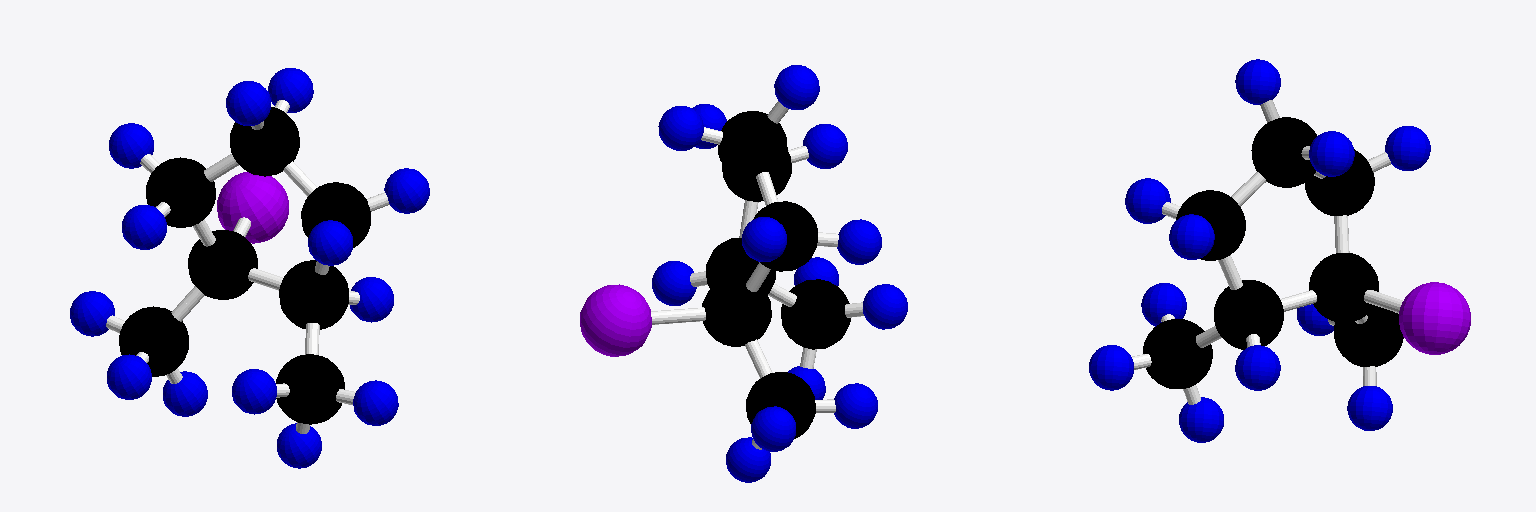
The model's file is cis-1-cloro-1_2-dimetil-ciclo-pentano.obj.
3 views of the same model, side by side, from view 1: azimuth 30°, elevation 25°; view 2: azimuth 150°, elevation 25°; view 3: azimuth 270°, elevation 25° (orthographic).
Parts seen in each view (by area): view 1: Shape_Sphere.036_Shape_Sphere.037, Shape_Sphere.023_Shape_Sphere.024, Shape_Sphere.024_Shape_Sphere.025, Shape_Sphere.038_Shape_Sphere.039, Shape_Sphere.022_Shape_Sphere.023, Shape_Sphere.026_Shape_Sphere.027, Shape_Sphere.021_Shape_Sphere.022, Shape_Sphere.025_Shape_Sphere.026, Shape_Sphere.041_Shape_Sphere, Shape_Sphere.032_Shape_Sphere.033, Shape_Sphere.029_Shape_Sphere.030, Shape_Sphere.027_Shape_Sphere.028 (+9 smaller); view 2: Shape_Sphere.036_Shape_Sphere.037, Shape_Sphere.021_Shape_Sphere.022, Shape_Sphere.023_Shape_Sphere.024, Shape_Sphere.038_Shape_Sphere.039, Shape_Sphere.026_Shape_Sphere.027, Shape_Sphere.022_Shape_Sphere.023, Shape_Sphere.024_Shape_Sphere.025, Shape_Sphere.030_Shape_Sphere.031, Shape_Sphere.039_Shape_Sphere.040, Shape_Sphere.033_Shape_Sphere.034, Shape_Sphere.027_Shape_Sphere.028, Shape_Sphere.028_Shape_Sphere.029 (+9 smaller); view 3: Shape_Sphere.036_Shape_Sphere.037, Shape_Sphere.023_Shape_Sphere.024, Shape_Sphere.038_Shape_Sphere.039, Shape_Sphere.024_Shape_Sphere.025, Shape_Sphere.021_Shape_Sphere.022, Shape_Sphere.026_Shape_Sphere.027, Shape_Sphere.022_Shape_Sphere.023, Shape_Sphere.025_Shape_Sphere.026, Shape_Sphere.028_Shape_Sphere.029, Shape_Sphere.037_Shape_Sphere.038, Shape_Sphere.031_Shape_Sphere.032, Shape_Sphere.035_Shape_Sphere.036 (+7 smaller).
Boxes of the visible parts, x1,y1,x2,y2 form: Shape_Sphere.036_Shape_Sphere.037: [217, 172, 288, 243]; Shape_Sphere.023_Shape_Sphere.024: [188, 230, 257, 299]; Shape_Sphere.024_Shape_Sphere.025: [279, 260, 348, 329]; Shape_Sphere.038_Shape_Sphere.039: [276, 354, 344, 424]; Shape_Sphere.022_Shape_Sphere.023: [146, 157, 215, 227]; Shape_Sphere.026_Shape_Sphere.027: [119, 306, 188, 376]; Shape_Sphere.021_Shape_Sphere.022: [230, 107, 299, 176]; Shape_Sphere.025_Shape_Sphere.026: [301, 182, 370, 247]; Shape_Sphere.041_Shape_Sphere: [353, 380, 398, 425]; Shape_Sphere.032_Shape_Sphere.033: [308, 220, 352, 265]; Shape_Sphere.029_Shape_Sphere.030: [122, 205, 166, 249]; Shape_Sphere.027_Shape_Sphere.028: [226, 81, 270, 125]; Shape_Sphere.036_Shape_Sphere.037: [580, 284, 651, 356]; Shape_Sphere.021_Shape_Sphere.022: [717, 111, 787, 180]; Shape_Sphere.023_Shape_Sphere.024: [702, 277, 771, 346]; Shape_Sphere.038_Shape_Sphere.039: [781, 279, 850, 349]; Shape_Sphere.026_Shape_Sphere.027: [746, 372, 815, 438]; Shape_Sphere.022_Shape_Sphere.023: [753, 201, 817, 271]; Shape_Sphere.024_Shape_Sphere.025: [706, 238, 775, 294]; Shape_Sphere.030_Shape_Sphere.031: [742, 217, 786, 261]; Shape_Sphere.039_Shape_Sphere.040: [863, 284, 907, 329]; Shape_Sphere.033_Shape_Sphere.034: [751, 406, 795, 451]; Shape_Sphere.027_Shape_Sphere.028: [774, 65, 819, 109]; Shape_Sphere.028_Shape_Sphere.029: [658, 106, 703, 150]; Shape_Sphere.036_Shape_Sphere.037: [1399, 282, 1470, 354]; Shape_Sphere.023_Shape_Sphere.024: [1309, 253, 1378, 322]; Shape_Sphere.038_Shape_Sphere.039: [1143, 319, 1212, 388]; Shape_Sphere.024_Shape_Sphere.025: [1214, 280, 1283, 349]; Shape_Sphere.021_Shape_Sphere.022: [1251, 117, 1316, 187]; Shape_Sphere.026_Shape_Sphere.027: [1334, 306, 1403, 366]; Shape_Sphere.022_Shape_Sphere.023: [1305, 149, 1374, 215]; Shape_Sphere.025_Shape_Sphere.026: [1176, 190, 1245, 260]; Shape_Sphere.028_Shape_Sphere.029: [1309, 131, 1354, 176]; Shape_Sphere.037_Shape_Sphere.038: [1235, 345, 1280, 390]; Shape_Sphere.031_Shape_Sphere.032: [1169, 214, 1214, 259]; Shape_Sphere.035_Shape_Sphere.036: [1347, 386, 1392, 430].
Bounding box in the file's own units: 4.22 × 5.89 × 5.5.